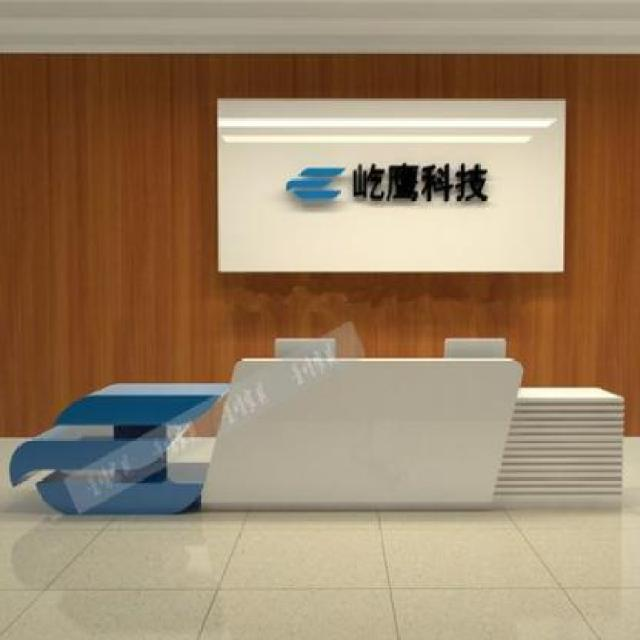frontdesk: (8, 349, 628, 522)
